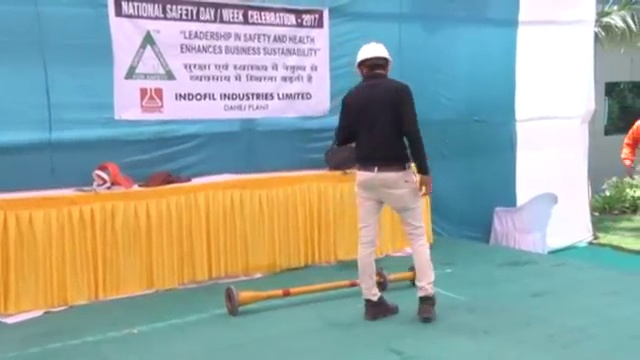helmet: (354, 41, 393, 70)
helmet_on: (352, 39, 394, 80)
person: (328, 41, 439, 322)
